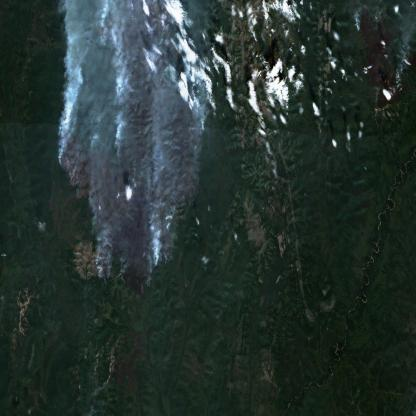fire: (53, 85, 217, 307), (90, 20, 109, 42), (350, 17, 368, 40)
